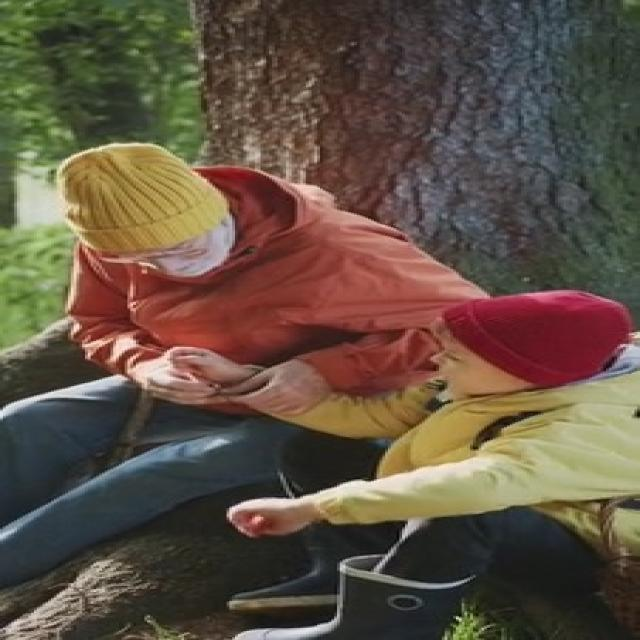Jacket_Wearer: (41, 217, 529, 404)
Person: (60, 155, 483, 513)
